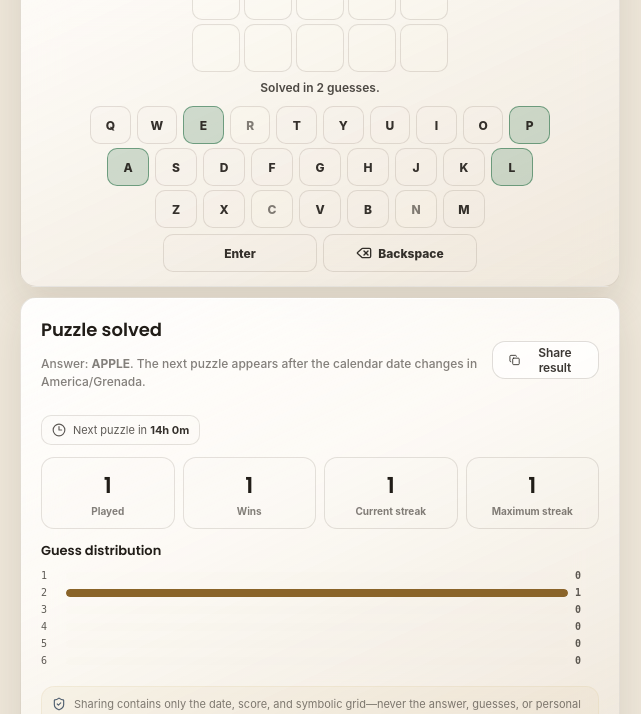
Test: DailyWordPage persistence, sharing, and accessibility › copies a result with no answer, guesses, or personal data
This screenshot has width=641, height=714.
(page scrolled)
Click the button "Share result": (545, 360) x1=492 y1=341 x2=599 y2=379
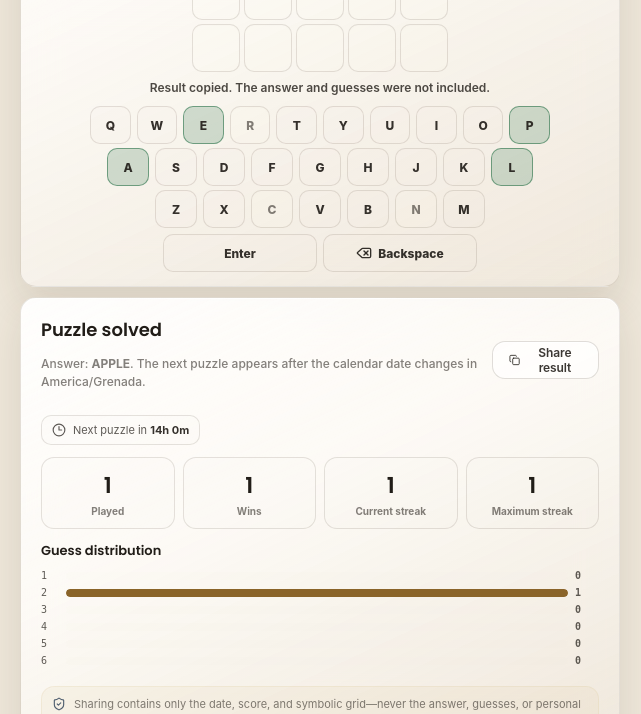
Expected: the message shows "Result copied", x1=150 y1=80 x2=490 y2=95
